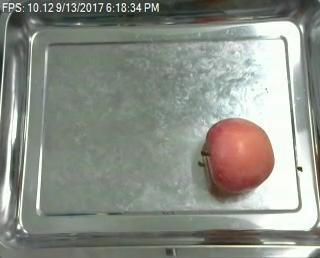apple: (201, 118, 276, 196)
